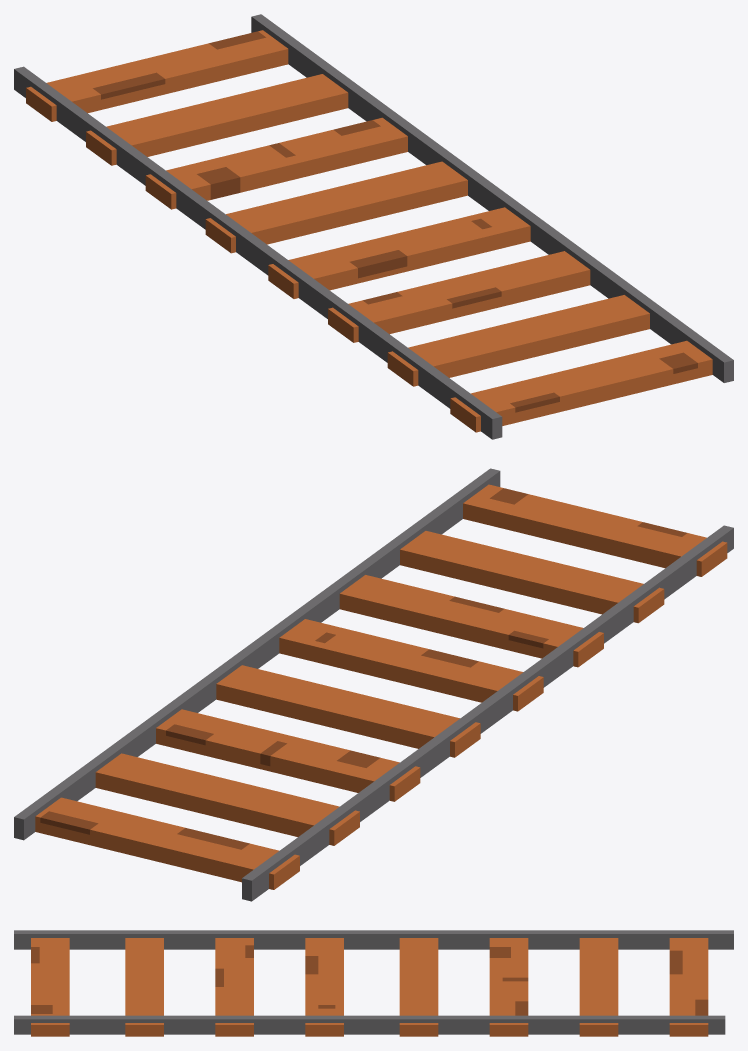
Rendered from carril.obj.
The picture shows the model from 3 angles, top to bottom: view 1: azimuth 30°, elevation 25°; view 2: azimuth 150°, elevation 25°; view 3: azimuth 270°, elevation 25°; orthographic projection. The views are drawn at different scales.
Bounding box in the file's own units: 5.1 × 0.4 × 16.8.
Materials: 1 (1 with a texture image).
